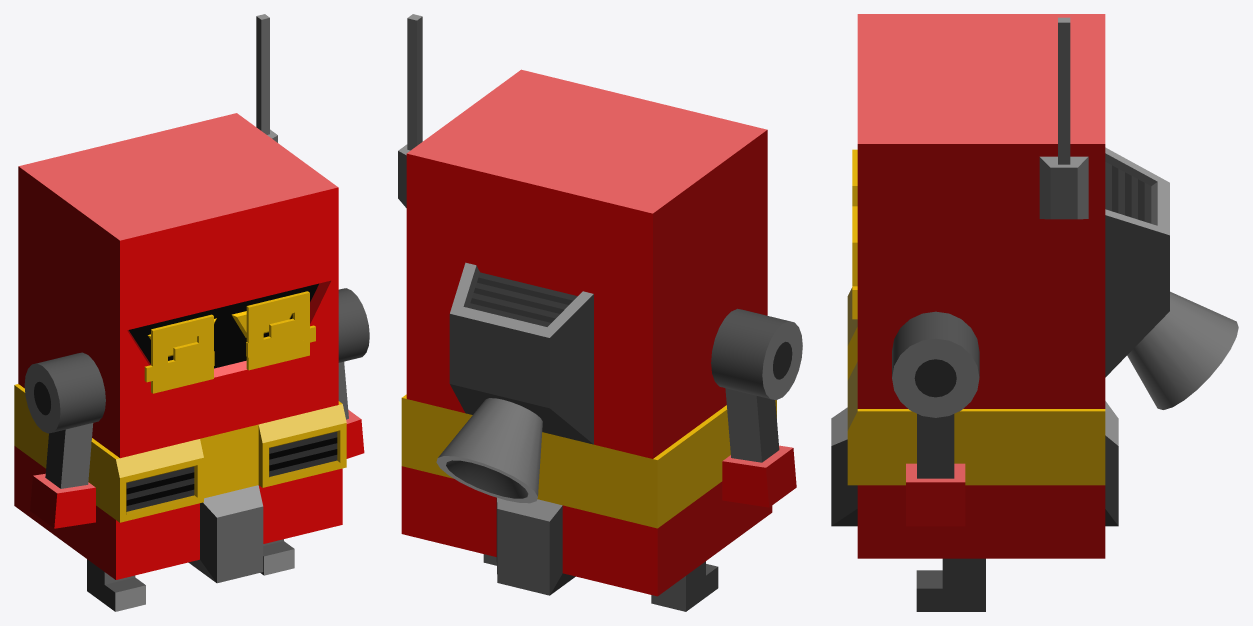
3 renders of one model, left to right at view 1: azimuth 30°, elevation 25°; view 2: azimuth 150°, elevation 25°; view 3: azimuth 270°, elevation 25°, orthographic. The views are drawn at different scales.
Parts seen in each view (by area): view 1: Ch_209_Head, Ch_209, Ch_209_Arm_L, Ch_209_Eye_03_R, Ch_209_Eye_03_L, Ch_209_Arm_R, Ch_209_Leg_L, Ch_209_Eye_02, Ch_209_Leg_R, Ch_209_Eye_01; view 2: Ch_209_Head, Ch_209, Ch_209_Arm_L, Ch_209_Leg_L; view 3: Ch_209_Head, Ch_209, Ch_209_Arm_R, Ch_209_Leg_R, Ch_209_Eye_03_R.
Part boxes in pixels (box(x1,y1,x2,y2)): Ch_209_Head: box(18, 14, 338, 458); Ch_209: box(14, 384, 346, 583); Ch_209_Arm_L: box(24, 352, 105, 528); Ch_209_Eye_03_R: box(246, 291, 309, 370); Ch_209_Eye_03_L: box(151, 314, 213, 393); Ch_209_Arm_R: box(338, 288, 369, 458); Ch_209_Leg_L: box(87, 559, 145, 611); Ch_209_Eye_02: box(144, 325, 315, 382); Ch_209_Leg_R: box(260, 539, 294, 575); Ch_209_Eye_01: box(148, 311, 292, 356); Ch_209_Head: box(398, 14, 767, 503); Ch_209: box(401, 394, 776, 596); Ch_209_Arm_L: box(711, 308, 802, 507); Ch_209_Leg_L: box(651, 561, 718, 611); Ch_209_Head: box(857, 14, 1238, 409); Ch_209: box(831, 287, 1118, 558); Ch_209_Arm_R: box(892, 311, 979, 526); Ch_209_Leg_R: box(916, 558, 985, 611); Ch_209_Eye_03_R: box(852, 206, 857, 319).
Size of the model in its own units: 6.63 by 10.21 by 6.19.
